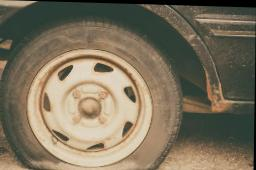Fender: (191, 5, 255, 123)
